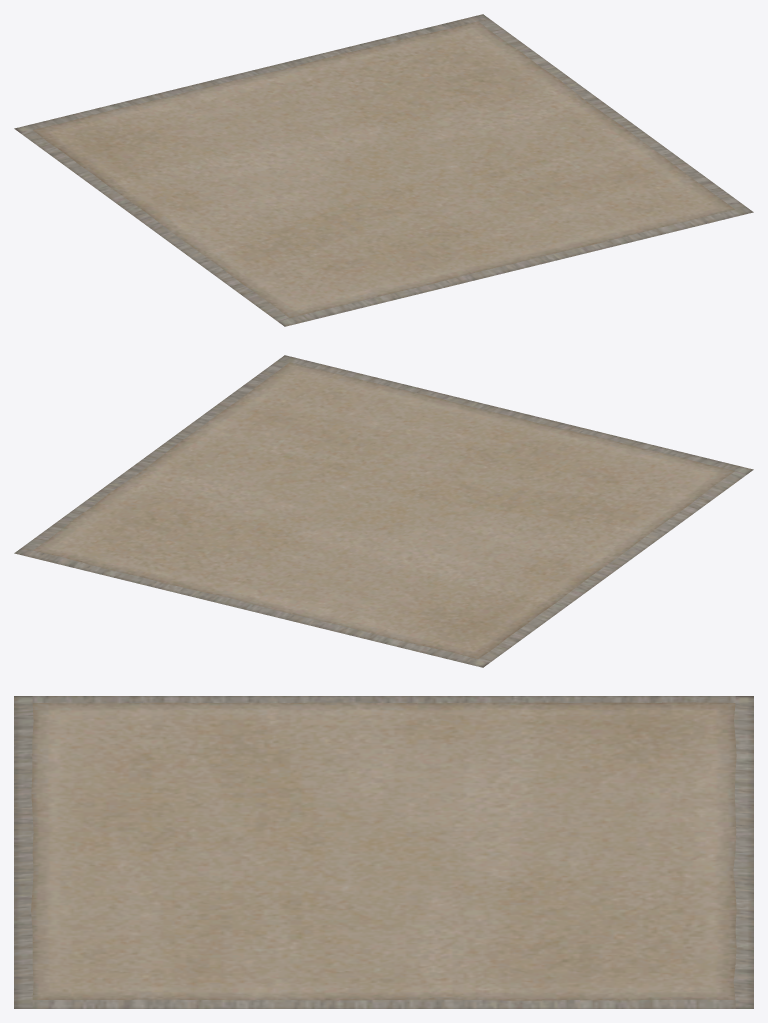
Rendered from RugSquareSimpleS00.glb.
The picture shows the model from 3 angles, top to bottom: view 1: azimuth 30°, elevation 25°; view 2: azimuth 150°, elevation 25°; view 3: azimuth 270°, elevation 25°; orthographic projection. The views are drawn at different scales.
Parts seen in each view (by area): view 1: Edge__mMain; view 2: Edge__mMain; view 3: Edge__mMain.
Boxes of the visible parts, bbox=[...] form: Edge__mMain: bbox=[14, 14, 753, 326]; Edge__mMain: bbox=[14, 355, 753, 667]; Edge__mMain: bbox=[14, 696, 753, 1008].
Bounding box in the file's own units: 20 × 0.03 × 20.
Materials: 1 (1 with a texture image).
